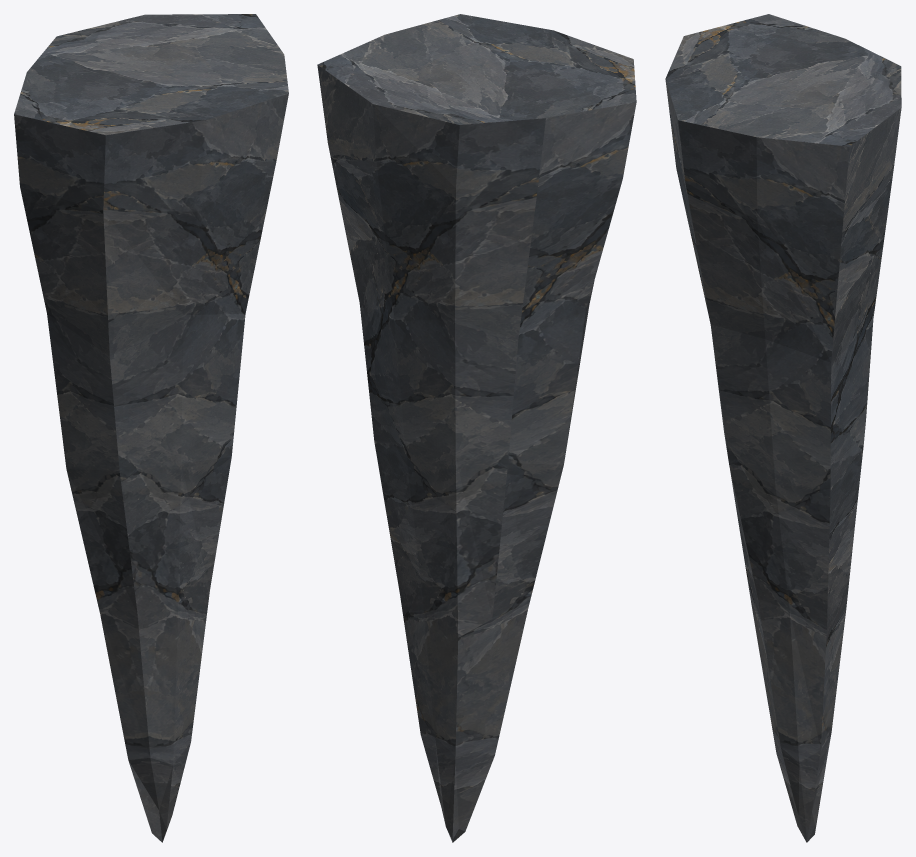
Rendered from Cave_R16_Stalactite.fbx.
The picture shows the model from 3 angles, left to right: view 1: azimuth 30°, elevation 25°; view 2: azimuth 150°, elevation 25°; view 3: azimuth 270°, elevation 25°; orthographic projection. The views are drawn at different scales.
Visible parts, largest first — view 1: Cave_R16_Stalactite_LOD0; view 2: Cave_R16_Stalactite_LOD0; view 3: Cave_R16_Stalactite_LOD0.
Part boxes in pixels (left/top/right/bottom): Cave_R16_Stalactite_LOD0: left=14, top=14, right=288, bottom=842; Cave_R16_Stalactite_LOD0: left=317, top=14, right=636, bottom=842; Cave_R16_Stalactite_LOD0: left=665, top=14, right=901, bottom=842.
Size of what is drawn, in the model's own units: 1.02 by 2.68 by 0.7634.
1 material, 1 textured.
